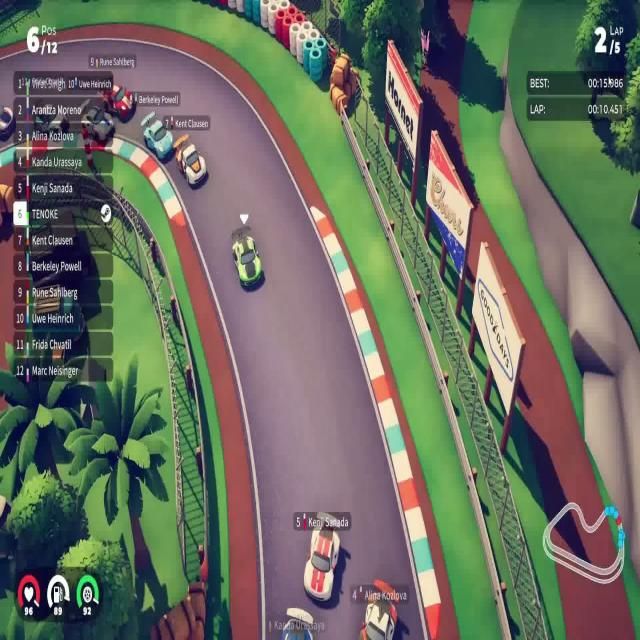car: (303, 526, 340, 603), (230, 228, 262, 288), (98, 73, 135, 122), (142, 118, 174, 162), (177, 142, 207, 187)
